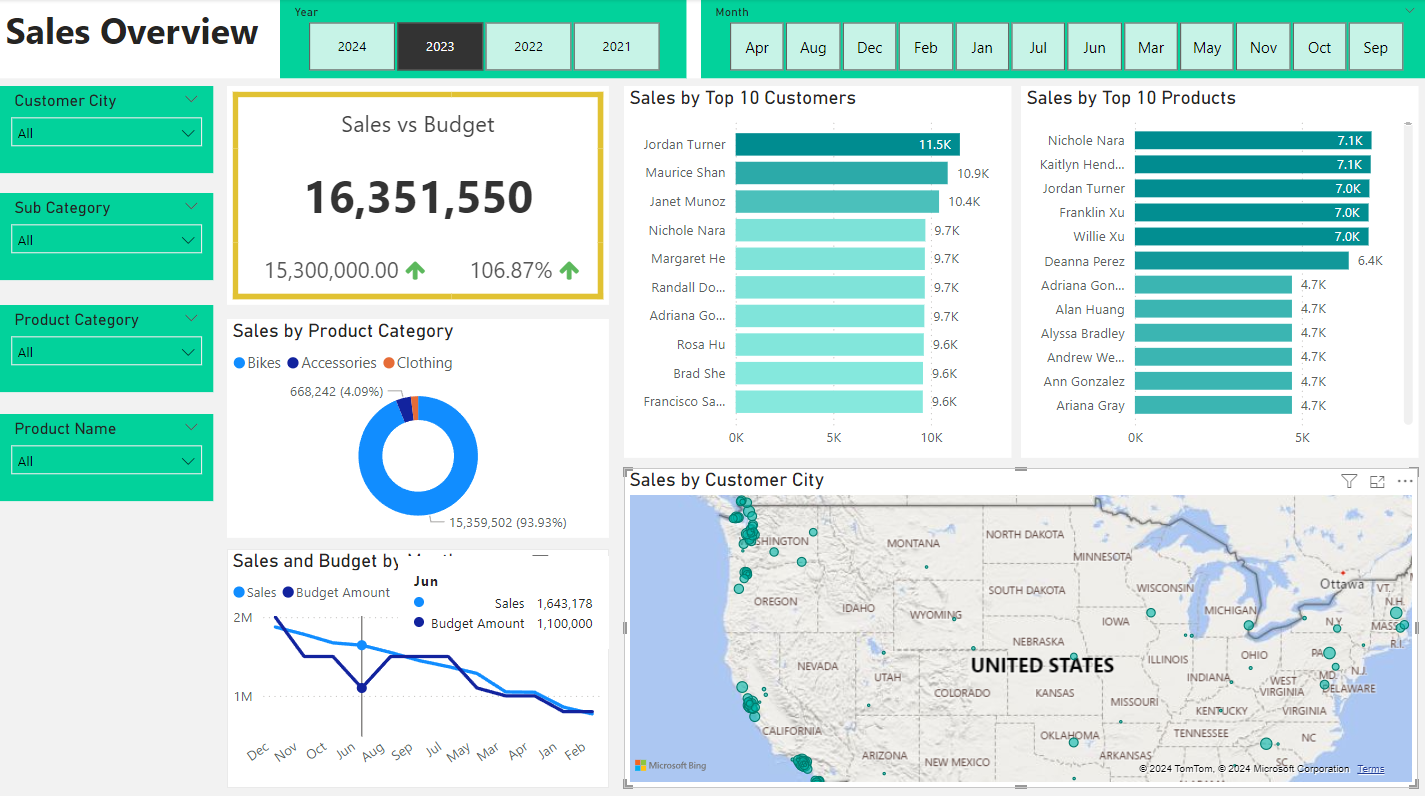

Layout of this report page (visuals, bound fields, positions):
{"tool":"powerbi","page":{"name":"Sales Overview","canvas":[1280,720],"ordinal":0},"visuals":[{"type":"textbox","box":[0,0,1280,71.2],"z":0},{"type":"slicer","fields":{"Values":["DIM_Customers.Customer City"]},"box":[0,78.3,190.8,78.3],"z":1000},{"type":"slicer","fields":{"Values":["DIM_Products.Sub Category"]},"box":[0,173.6,190.8,78.3],"z":2000},{"type":"slicer","fields":{"Values":["DIM_Products.Product Category"]},"box":[0,273.9,190.8,78.3],"z":3000},{"type":"slicer","fields":{"Values":["DIM_Products.Product Name"]},"box":[0,371.7,190.8,78.3],"z":4000},{"type":"donutChart","fields":{"Category":["DIM_Products.Product Category"],"Y":["Key Measures.Sales"]},"box":[203,286.1,342.4,195.7],"z":5000},{"type":"lineChart","title":"Sales and Budget by Month","fields":{"Y":["Key Measures.Sales","Key Measures.Budget Amount"],"Category":["DIM_Calender.MonthShort"]},"box":[203,492.8,342.4,214],"z":6000},{"type":"slicer","fields":{"Values":["DIM_Calender.MonthShort"]},"box":[627.5,0,652.5,71.2],"z":7000},{"type":"slicer","fields":{"Values":["DIM_Calender.Year"]},"box":[250.7,0,364.4,70.9],"z":8000},{"type":"barChart","title":"Sales by Top 10 Customers","fields":{"Y":["Key Measures.Sales"],"Category":["DIM_Customers.Full Name"]},"box":[558.8,78.3,347.3,332.6],"z":9000},{"type":"map","fields":{"Category":["DIM_Customers.Customer City"],"Size":["Key Measures.Sales"]},"box":[558.8,420,711.2,286.2],"z":10000},{"type":"barChart","title":"Sales by Top 10 Products","fields":{"Y":["Key Measures.Sales"],"Category":["DIM_Customers.Full Name"]},"box":[914.7,78.3,355.8,332.6],"z":11000},{"type":"BBED0A4D4D8D44CE93CF2DAFADEE466C","fields":{"actual":["Key Measures.Sales"],"target2":["Key Measures.Sales / Budget Amount"],"target1":["Key Measures.Budget Amount"]},"box":[203,78.3,342.4,195.7],"z":12000}]}

Visuals, with their boxes in screenshot pixels (x1, y1, x2, y2), scaled from the page's 1280x720 canvas onto the 1425x796 screenshot:
textbox: pyautogui.locateOnScreen(0, 0, 1424, 79)
slicer - DIM_Customers.Customer City: pyautogui.locateOnScreen(0, 87, 212, 173)
slicer - DIM_Products.Sub Category: pyautogui.locateOnScreen(0, 192, 212, 278)
slicer - DIM_Products.Product Category: pyautogui.locateOnScreen(0, 303, 212, 389)
slicer - DIM_Products.Product Name: pyautogui.locateOnScreen(0, 411, 212, 498)
donutChart - DIM_Products.Product Category x Key Measures.Sales: pyautogui.locateOnScreen(226, 316, 607, 533)
"Sales and Budget by Month" lineChart: pyautogui.locateOnScreen(226, 545, 607, 781)
slicer - DIM_Calender.MonthShort: pyautogui.locateOnScreen(699, 0, 1424, 79)
slicer - DIM_Calender.Year: pyautogui.locateOnScreen(279, 0, 685, 78)
"Sales by Top 10 Customers" barChart: pyautogui.locateOnScreen(622, 87, 1009, 454)
map - DIM_Customers.Customer City x Key Measures.Sales: pyautogui.locateOnScreen(622, 464, 1414, 781)
"Sales by Top 10 Products" barChart: pyautogui.locateOnScreen(1018, 87, 1414, 454)
BBED0A4D4D8D44CE93CF2DAFADEE466C - Key Measures.Sales x Key Measures.Sales / Budget Amount: pyautogui.locateOnScreen(226, 87, 607, 303)
